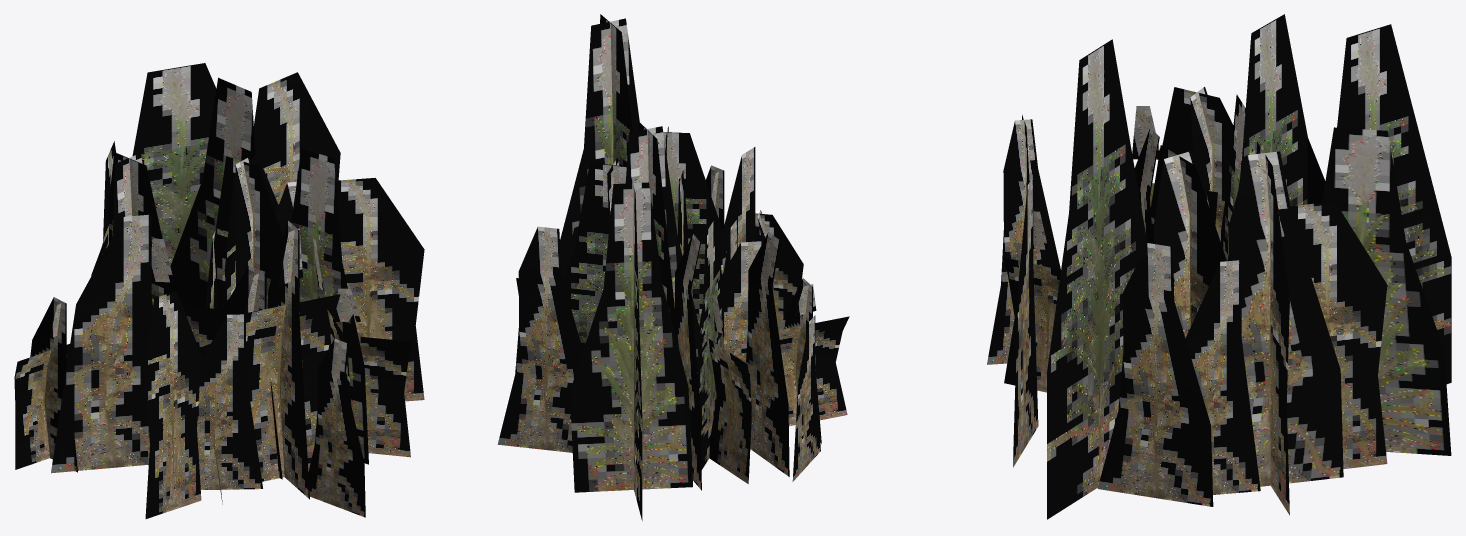
File: reeds_tall_dry.glb
3 views of the same model, side by side, from view 1: azimuth 30°, elevation 25°; view 2: azimuth 150°, elevation 25°; view 3: azimuth 270°, elevation 25° (orthographic). The views are drawn at different scales.
Parts seen in each view (by area): view 1: reeds_tall_dry_LOD0; view 2: reeds_tall_dry_LOD0; view 3: reeds_tall_dry_LOD0.
Boxes of the visible parts, x1,y1,x2,y2 form: reeds_tall_dry_LOD0: [14, 63, 424, 518]; reeds_tall_dry_LOD0: [497, 14, 849, 520]; reeds_tall_dry_LOD0: [987, 14, 1451, 519].
Bounding box in the file's own units: 4.39 × 4.49 × 5.06.
Materials: 1 (1 with a texture image).
